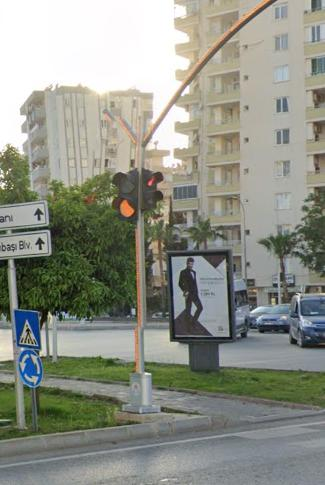yellowlight: (116, 170, 142, 226)
